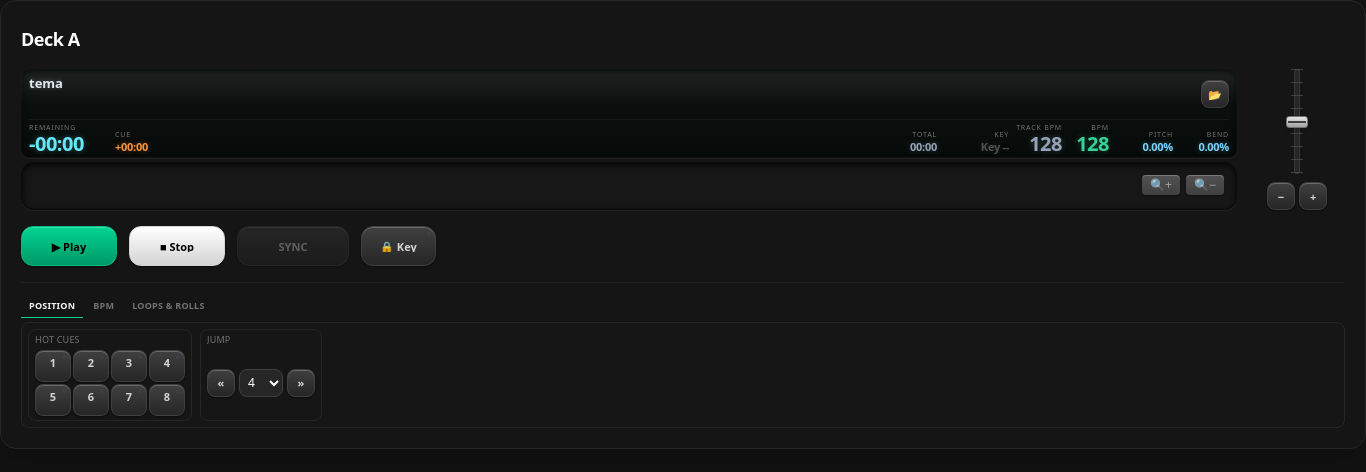
caja de estructura › el reset devuelve el desplazamiento al que detectó el análisis
Click the tab "BPM" at (104, 307), box x1=85 y1=295 x2=122 y2=318
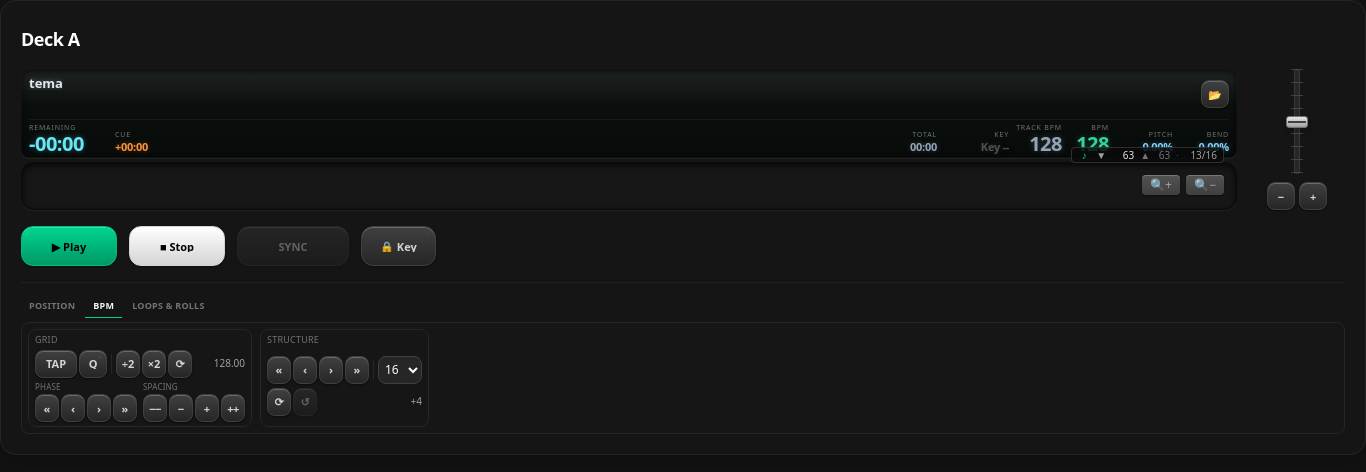
Check: the text titled "Current phrase shift, in kicks. Amber when you set it by hand" reads "+4", box x1=410 y1=394 x2=422 y2=408
Check: the button titled "Back to the phrase shift the analysis found" is disabled, box x1=293 y1=388 x2=317 y2=416
Click the button titled "Shift the phrase 1 kick forward" below "Structure" at (331, 370), box x1=319 y1=356 x2=343 y2=384
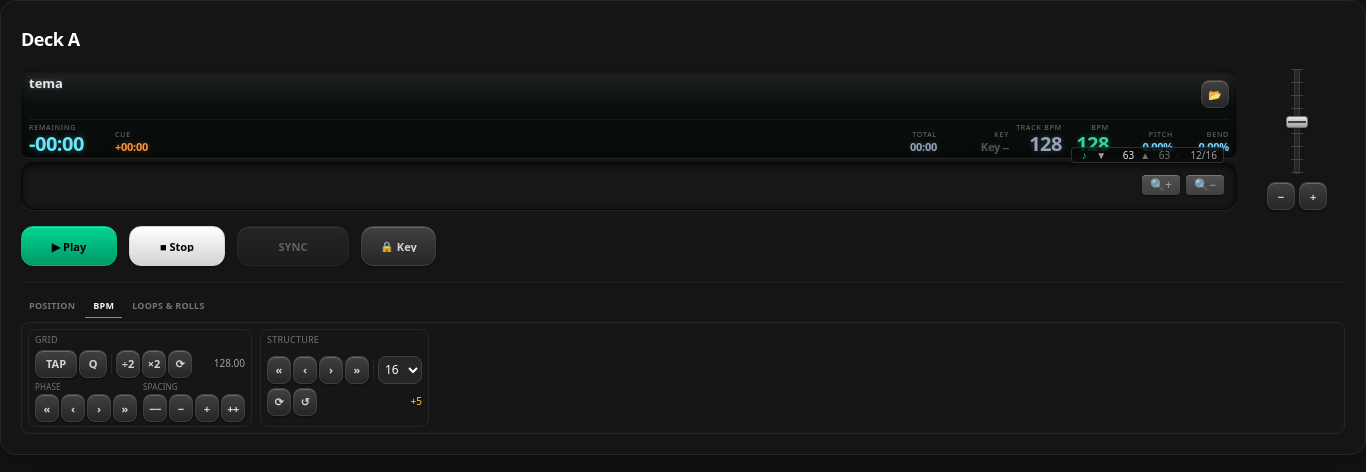
Check: the text titled "Current phrase shift, in kicks. Amber when you set it by hand" reads "+5", box x1=410 y1=394 x2=422 y2=408
Check: the button titled "Back to the phrase shift the analysis found" is enabled
Click the button titled "Back to the phrase shift the analysis found" at (305, 402), box x1=293 y1=388 x2=317 y2=416
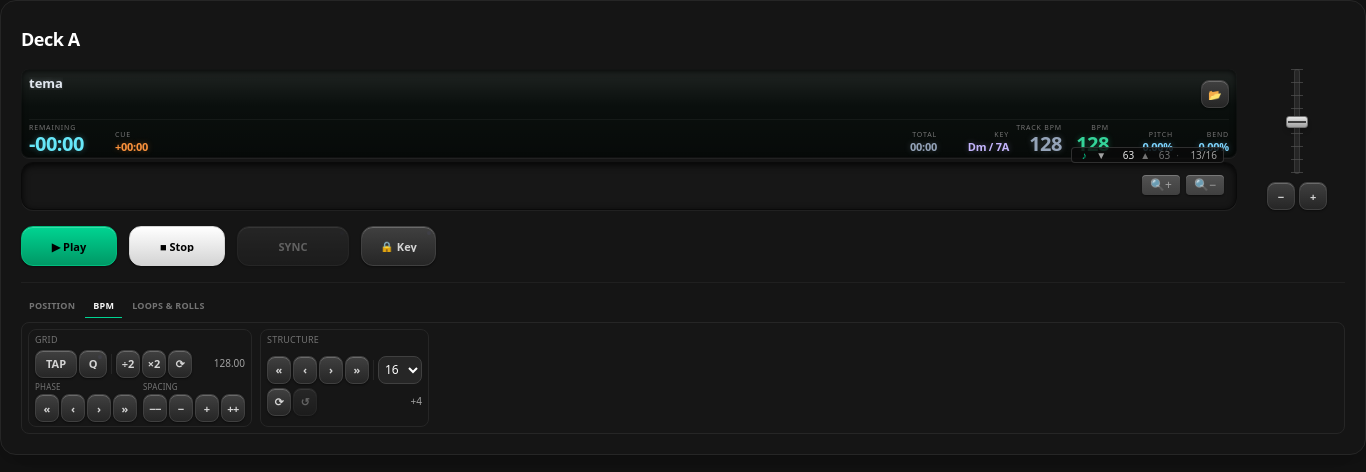
Check: the text titled "Current phrase shift, in kicks. Amber when you set it by hand" reads "+4", box x1=410 y1=394 x2=422 y2=408
Check: the button titled "Back to the phrase shift the analysis found" is disabled, box x1=293 y1=388 x2=317 y2=416
